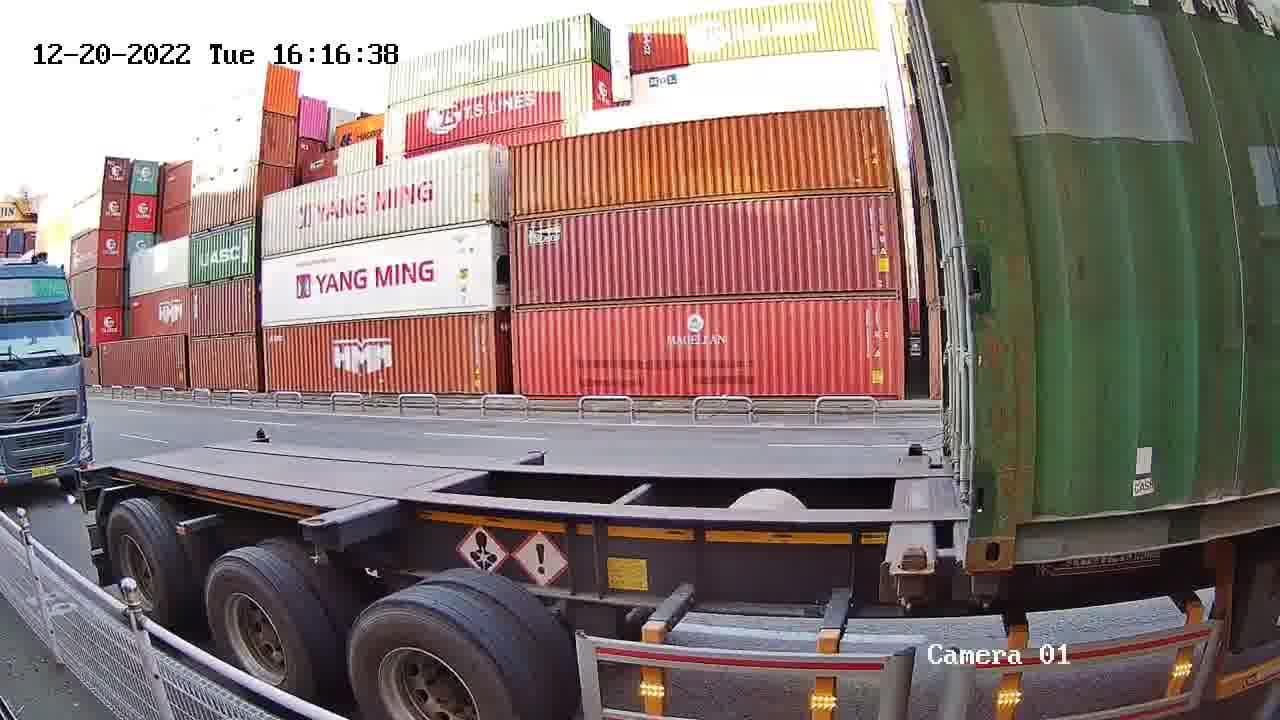Chassis: (883, 453, 933, 577)
Cone: (882, 545, 936, 613), (962, 570, 1010, 614), (901, 443, 926, 456)
Hole_L: (965, 485, 1062, 568)
Tire: (349, 606, 510, 719), (205, 559, 313, 695), (105, 501, 171, 621)
